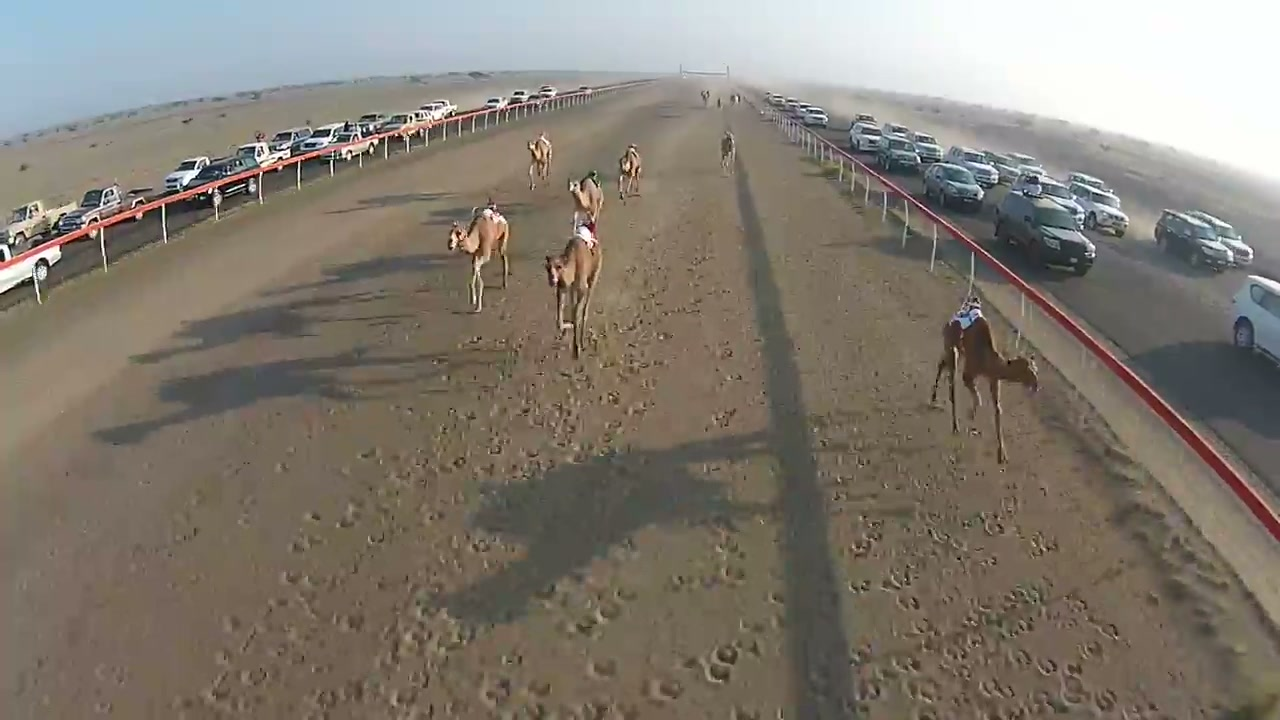animal_footprint: (215, 338, 689, 719), (842, 468, 1135, 719)
